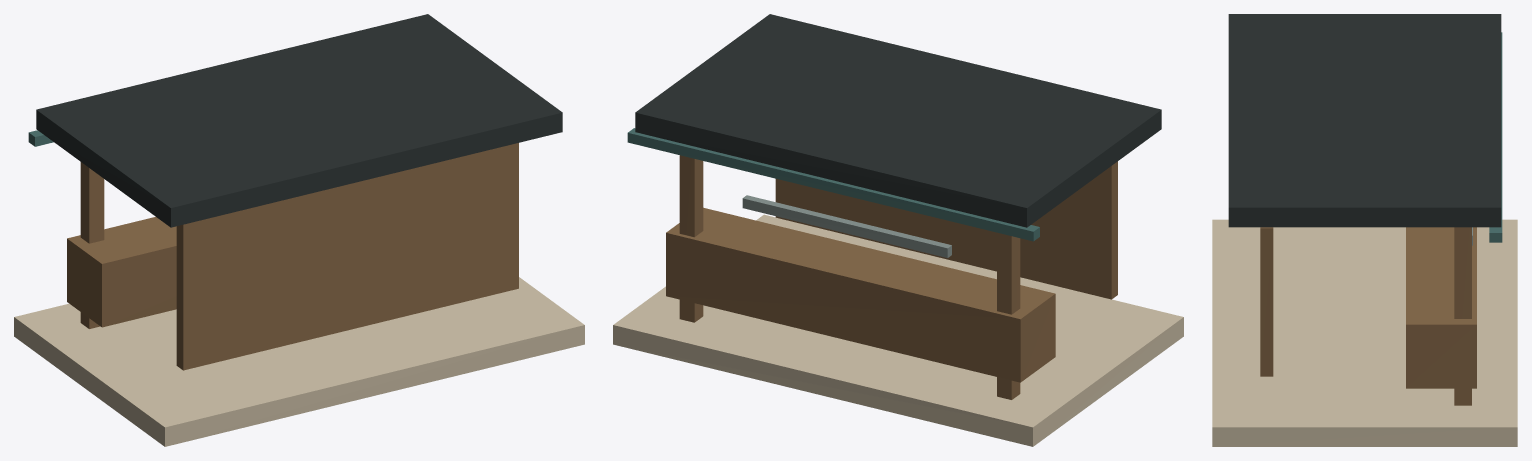
The model's file is Roadside-Stand.glb.
3 renders of one model, left to right at view 1: azimuth 30°, elevation 25°; view 2: azimuth 150°, elevation 25°; view 3: azimuth 270°, elevation 25°, orthographic.
Visible parts, largest first — view 1: roadside-stand-static-roadside-stand-iron, roadside-stand-static-roadside-stand-timber, roadside-stand-static-roadside-stand-cream; view 2: roadside-stand-static-roadside-stand-iron, roadside-stand-static-roadside-stand-timber, roadside-stand-static-roadside-stand-cream, roadside-stand-static-roadside-stand-teal, roadside-stand-static-roadside-stand-galv; view 3: roadside-stand-static-roadside-stand-iron, roadside-stand-static-roadside-stand-cream, roadside-stand-static-roadside-stand-timber, roadside-stand-static-roadside-stand-teal.
Boxes of the visible parts, x1,y1,x2,y2 form: roadside-stand-static-roadside-stand-iron: (36, 14, 562, 227); roadside-stand-static-roadside-stand-timber: (67, 143, 518, 370); roadside-stand-static-roadside-stand-cream: (14, 277, 584, 446); roadside-stand-static-roadside-stand-iron: (635, 14, 1161, 227); roadside-stand-static-roadside-stand-timber: (666, 155, 1117, 399); roadside-stand-static-roadside-stand-cream: (613, 214, 1183, 446); roadside-stand-static-roadside-stand-teal: (627, 128, 1039, 241); roadside-stand-static-roadside-stand-galv: (742, 195, 951, 257); roadside-stand-static-roadside-stand-iron: (1228, 14, 1501, 227); roadside-stand-static-roadside-stand-cream: (1212, 219, 1517, 446); roadside-stand-static-roadside-stand-timber: (1260, 227, 1476, 405); roadside-stand-static-roadside-stand-teal: (1489, 32, 1502, 242).
Bounding box in the file's own units: 4.5 × 2.35 × 2.8.
